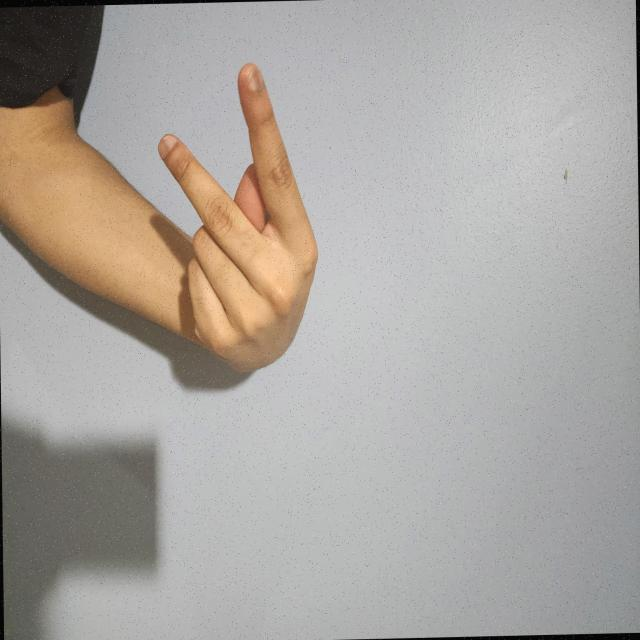P: (204, 417, 448, 640)
